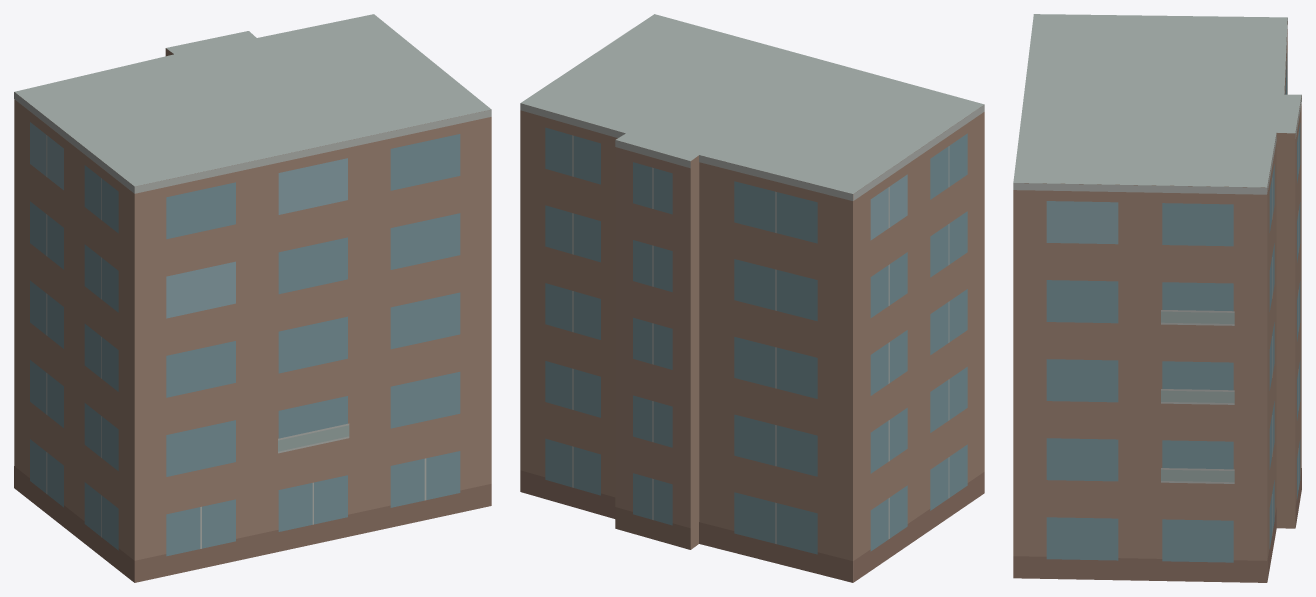
File: survey-upis-32944016.glb
3 renders of one model, left to right at view 1: azimuth 30°, elevation 25°; view 2: azimuth 150°, elevation 25°; view 3: azimuth 270°, elevation 25°, orthographic.
Visible parts, largest first — view 1: survey-upis-32944016.tmp; view 2: survey-upis-32944016.tmp; view 3: survey-upis-32944016.tmp.
Boxes of the visible parts, bbox=[...] form: survey-upis-32944016.tmp: bbox=[14, 14, 491, 582]; survey-upis-32944016.tmp: bbox=[520, 14, 984, 582]; survey-upis-32944016.tmp: bbox=[1013, 14, 1301, 582].
Size of the model in its own units: 12.52 by 13.3 by 8.8.
